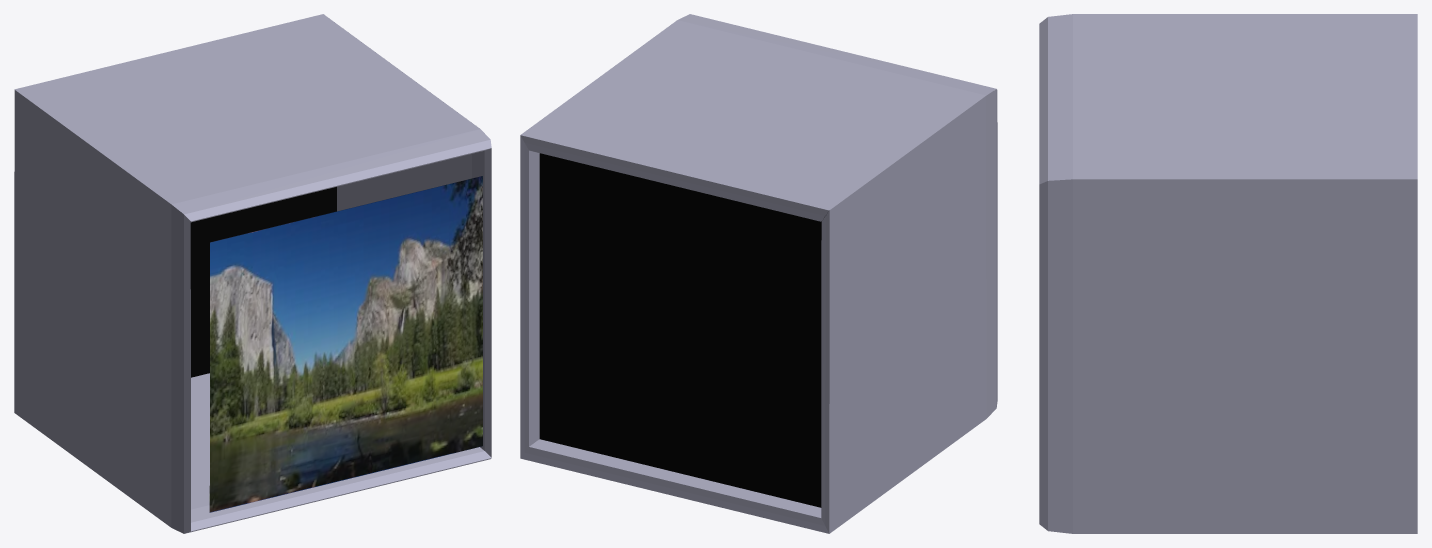
File: sh-contrib-yosemite-frame.glb
3 views of the same model, side by side, from view 1: azimuth 30°, elevation 25°; view 2: azimuth 150°, elevation 25°; view 3: azimuth 270°, elevation 25° (orthographic). The views are drawn at different scales.
Parts seen in each view (by area): view 1: MetalFrame_Cylinder_Aluminium.015, Photo_Cube_Material_Yosemite, Frame_Black_Material.019; view 2: MetalFrame_Cylinder_Aluminium.015, Frame_Black_Material.019; view 3: MetalFrame_Cylinder_Aluminium.015.
Boxes of the visible parts, left/top/right/bottom form: MetalFrame_Cylinder_Aluminium.015: left=14, top=14, right=491, bottom=533; Photo_Cube_Material_Yosemite: left=209, top=176, right=482, bottom=512; Frame_Black_Material.019: left=190, top=187, right=336, bottom=377; MetalFrame_Cylinder_Aluminium.015: left=520, top=14, right=997, bottom=533; Frame_Black_Material.019: left=539, top=153, right=829, bottom=507; MetalFrame_Cylinder_Aluminium.015: left=1039, top=14, right=1417, bottom=533.
Bounding box in the file's own units: 1 × 1 × 1.
3 materials, 1 textured.
